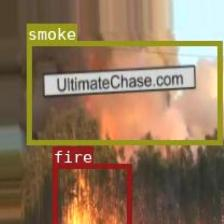fire: (52, 162, 131, 224)
smoke: (26, 40, 221, 144)
